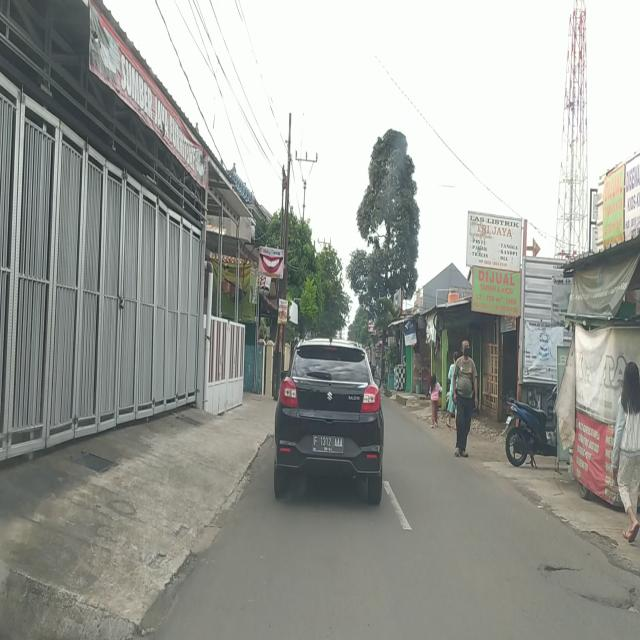Sewer Cover: (580, 582, 640, 618), (540, 561, 586, 578)
